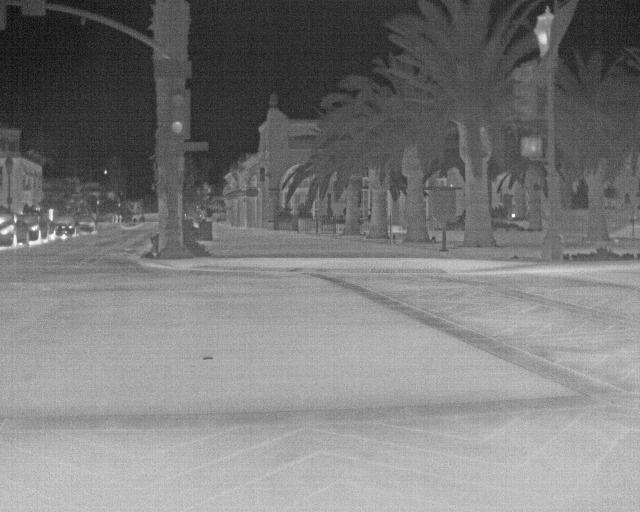car: (0, 210, 30, 248), (29, 212, 56, 246), (52, 213, 76, 239), (76, 216, 94, 235)
